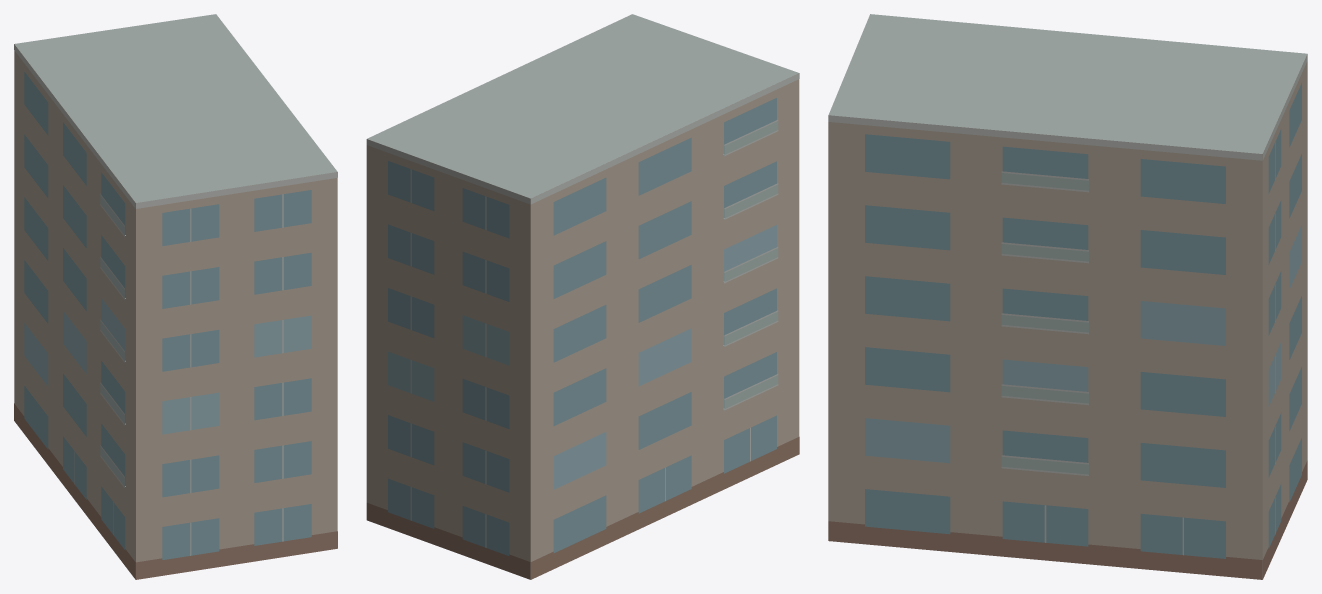
The model's file is survey-upis-32849559.glb.
The picture shows the model from 3 angles, left to right: view 1: azimuth 30°, elevation 25°; view 2: azimuth 150°, elevation 25°; view 3: azimuth 270°, elevation 25°; orthographic projection. The views are drawn at different scales.
Visible parts, largest first — view 1: survey-upis-32849559.tmp; view 2: survey-upis-32849559.tmp; view 3: survey-upis-32849559.tmp.
Boxes of the visible parts, left/top/right/bottom form: survey-upis-32849559.tmp: left=14, top=14, right=337, bottom=579; survey-upis-32849559.tmp: left=366, top=14, right=799, bottom=579; survey-upis-32849559.tmp: left=828, top=14, right=1307, bottom=579.
Size of the model in its own units: 11.02 by 15.6 by 15.92.
